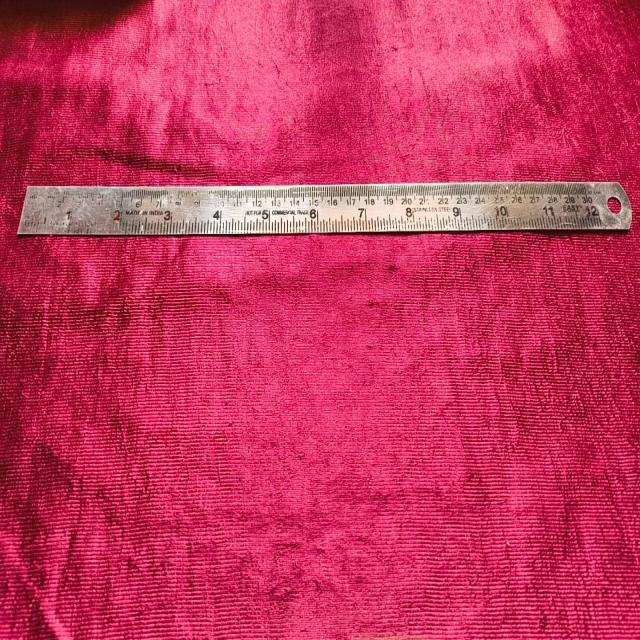scale: (19, 185, 630, 234)
